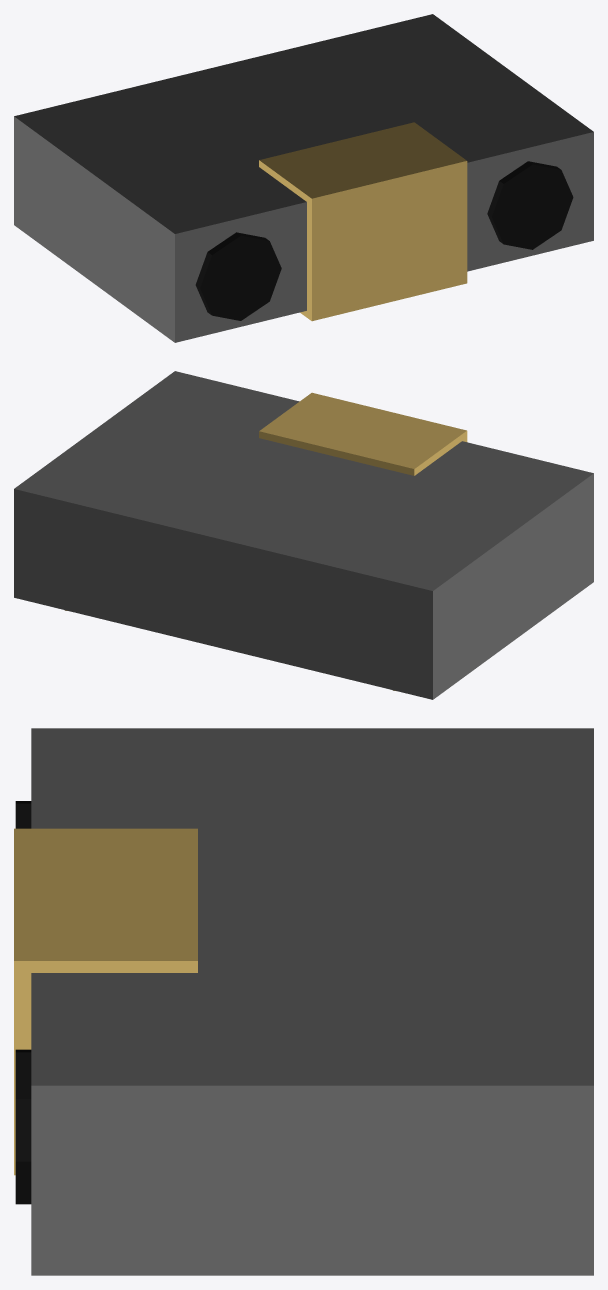
File: Media Player.fbx
3 views of the same model, one above another, from view 1: azimuth 30°, elevation 25°; view 2: azimuth 150°, elevation 25°; view 3: azimuth 270°, elevation 25° (orthographic). The views are drawn at different scales.
Visible parts, largest first — view 1: Node 0; view 2: Node 0; view 3: Node 0.
Part boxes in pixels (x1,y1,x2,y2): Node 0: [14, 14, 593, 342]; Node 0: [14, 371, 593, 699]; Node 0: [14, 728, 593, 1275].
Bounding box in the file's own units: 0.237 × 0.0967 × 0.3454.
